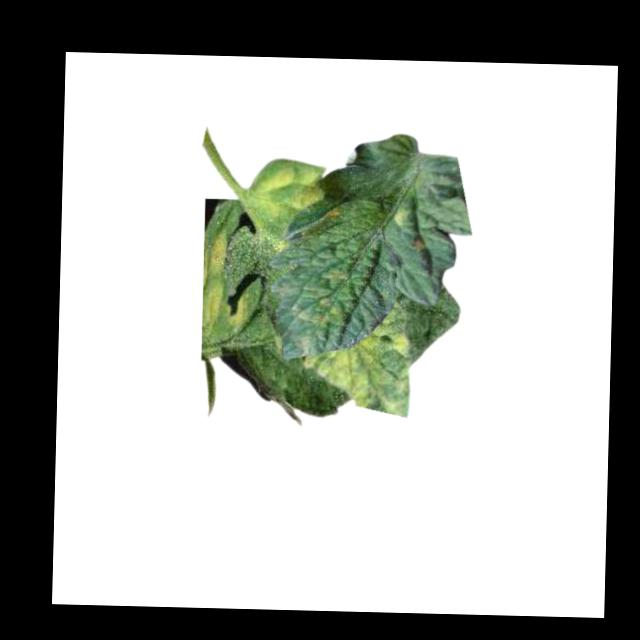Leaf_Mold: (301, 311, 412, 418), (254, 159, 326, 220), (283, 294, 346, 354), (206, 226, 232, 276), (201, 276, 223, 325), (317, 265, 350, 292), (224, 295, 246, 327), (323, 205, 345, 228), (393, 205, 409, 230)
